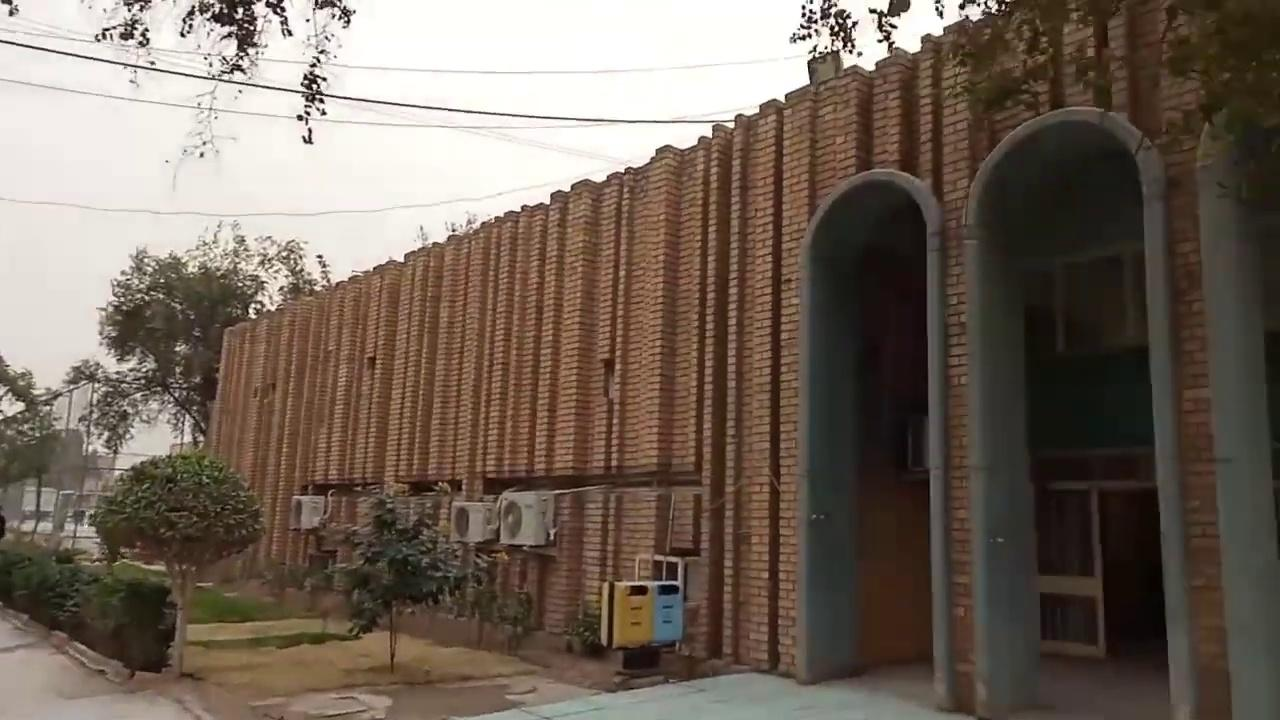tree: (788, 0, 1279, 149), (88, 218, 332, 454), (82, 0, 356, 173), (88, 448, 266, 676), (311, 489, 486, 673), (2, 543, 178, 675), (0, 354, 66, 539), (59, 357, 137, 476), (497, 587, 533, 654)
